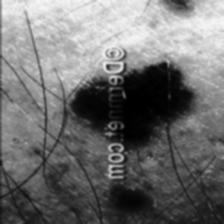Potentially Malignant Skin Tumors: (125, 57, 183, 148), (66, 76, 102, 124)
